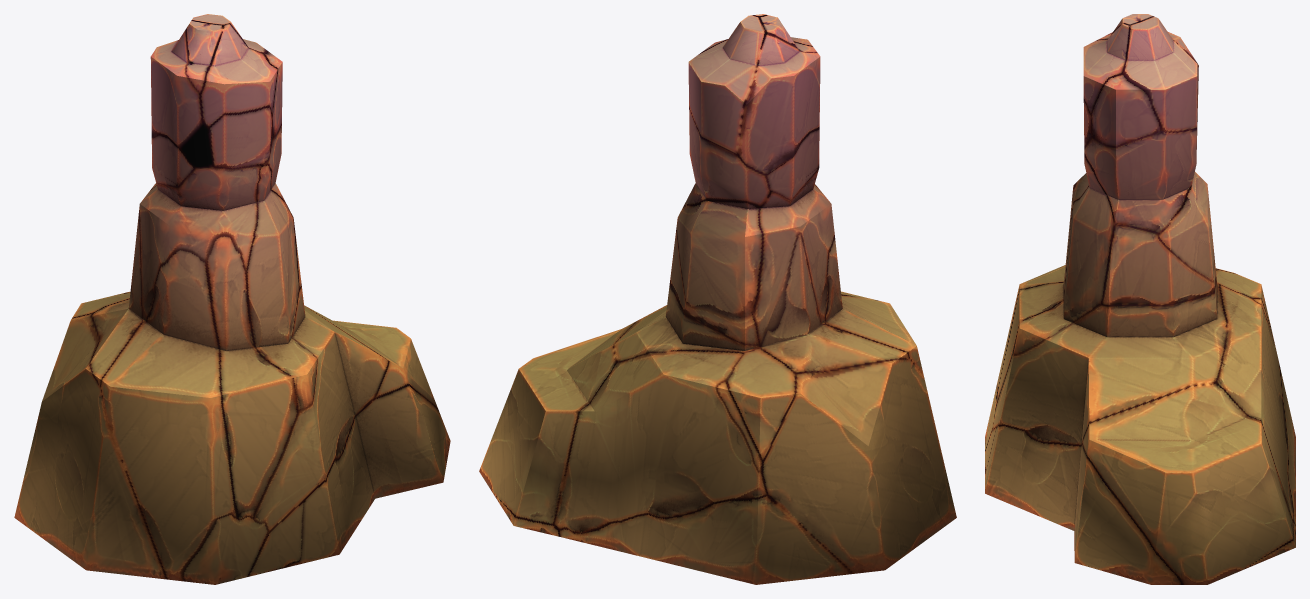
File: morerocks_1.fbx
3 renders of one model, left to right at view 1: azimuth 30°, elevation 25°; view 2: azimuth 150°, elevation 25°; view 3: azimuth 270°, elevation 25°, orthographic. The views are drawn at different scales.
Visible parts, largest first — view 1: Cube.005; view 2: Cube.005; view 3: Cube.005.
Part boxes in pixels (left/top/right/bottom): Cube.005: left=14, top=14, right=450, bottom=584; Cube.005: left=479, top=14, right=956, bottom=584; Cube.005: left=985, top=14, right=1295, bottom=584.
Size of the model in its own units: 343 by 389 by 243.
1 material, 1 textured.
